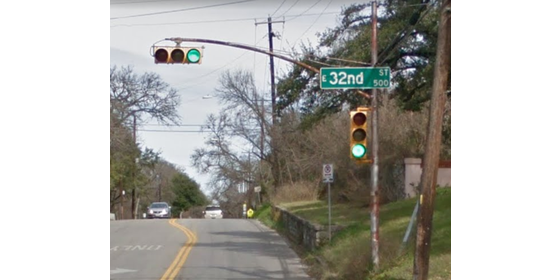street name sign: (318, 65, 393, 90)
